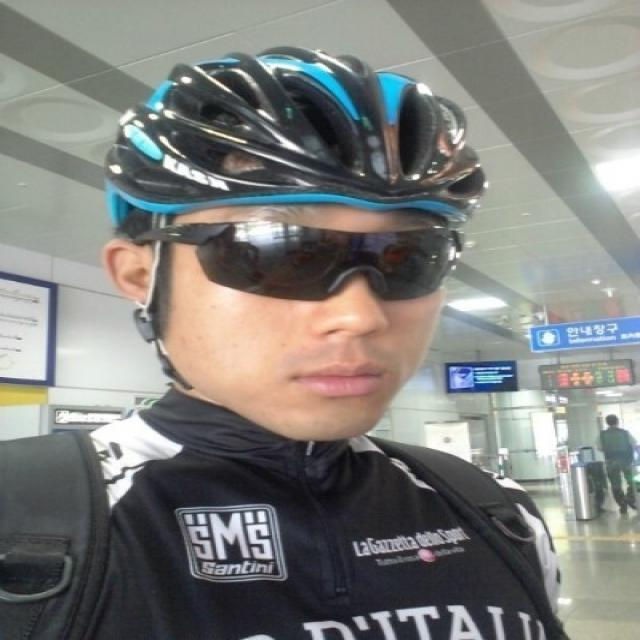Helmet: (97, 42, 490, 444)
